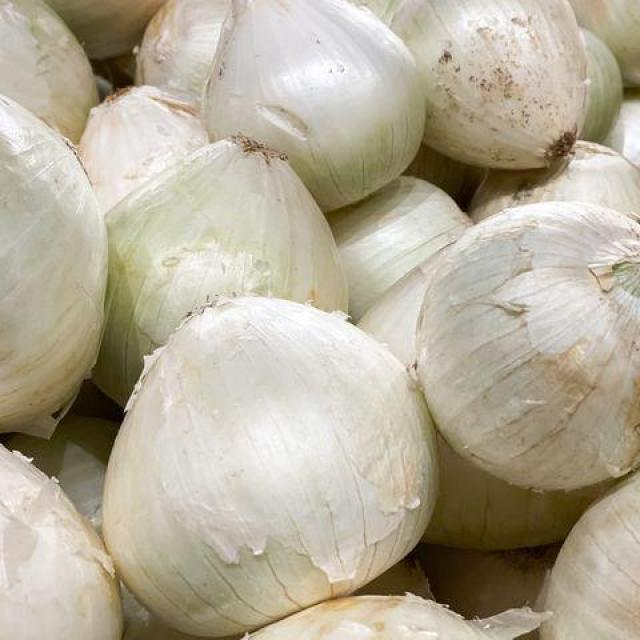Onion: (104, 293, 440, 639), (414, 202, 640, 493), (203, 0, 428, 216), (8, 413, 188, 640), (0, 93, 111, 435), (387, 0, 589, 167), (1, 440, 123, 640), (420, 430, 615, 546), (326, 173, 474, 324), (76, 87, 207, 216), (538, 476, 640, 640), (242, 590, 554, 640), (469, 137, 640, 228), (2, 0, 98, 147), (418, 538, 554, 640), (136, 0, 225, 100), (45, 0, 166, 61), (574, 0, 640, 86), (577, 28, 623, 144), (358, 554, 434, 598), (608, 89, 640, 164)
